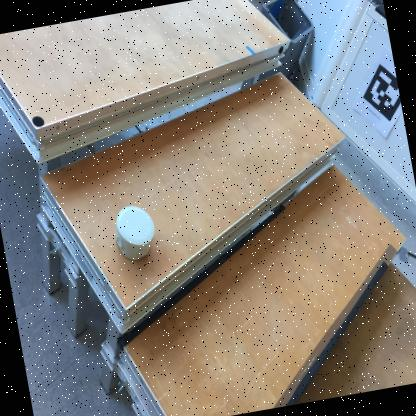Stairs: (42, 74, 344, 338), (118, 165, 406, 416)
